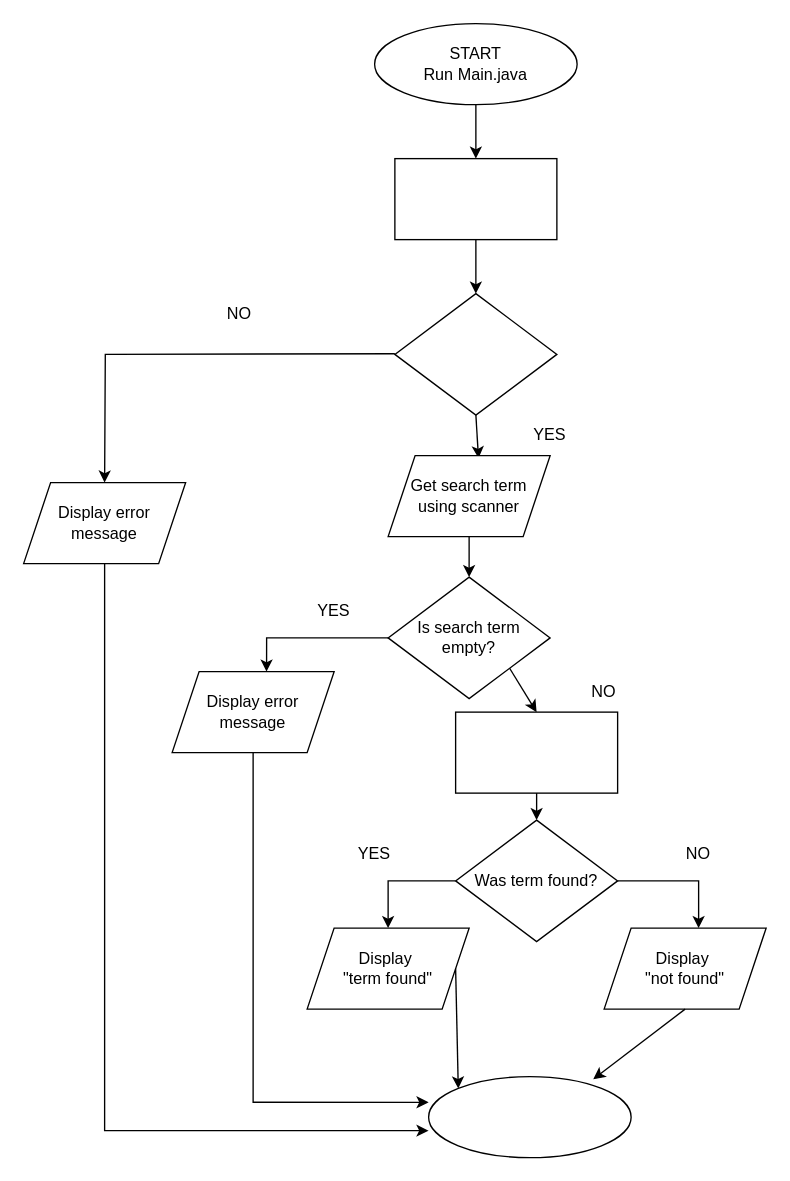
This 790x1181 diagram has some shape labels left out. Here are the shapes that lost their labels. From the top down, the box of each, then its label:
(394, 157, 557, 240): Read text file using BufferedReader
(394, 292, 557, 415): Is the file Available?
(454, 711, 618, 793): Search text file for search term
(427, 1075, 631, 1158): END
